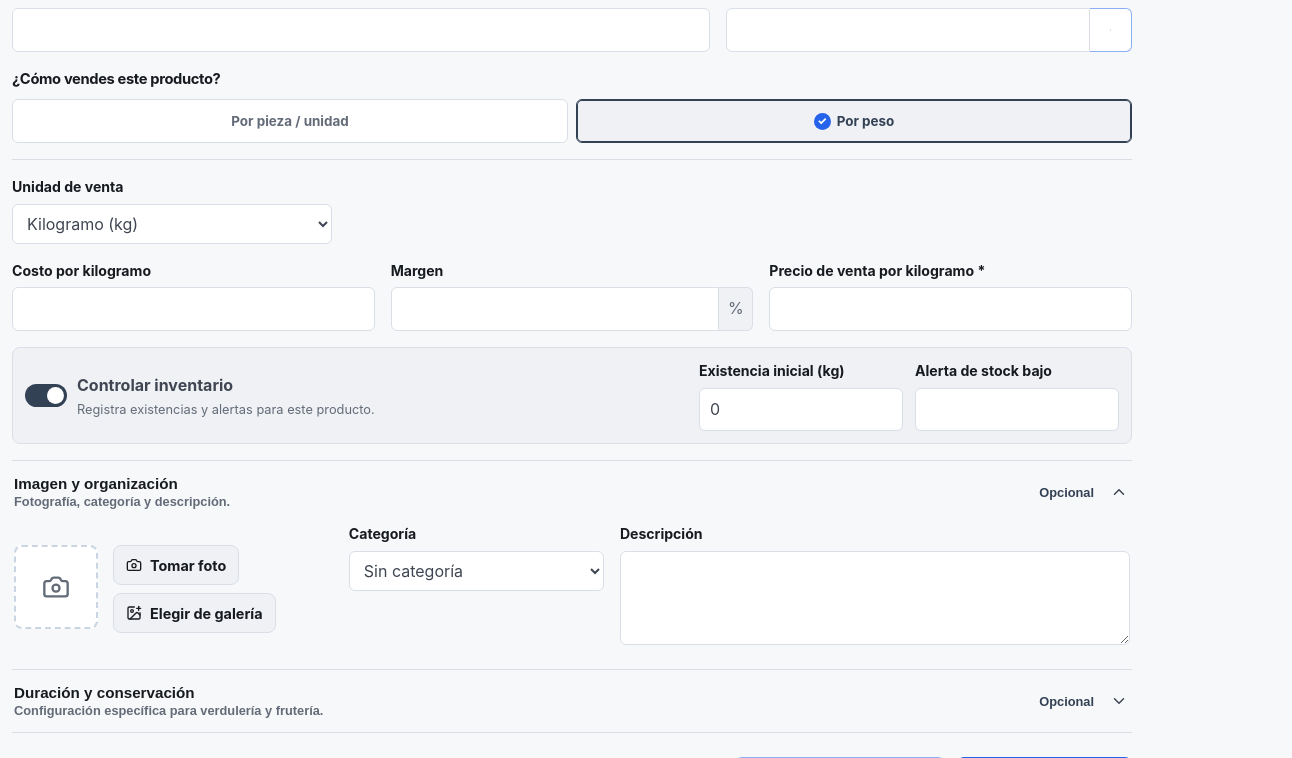
Test: ProductFormV2 › places the produce sale mode before pricing and limits weight units to kg and g
Expected: the dropdown labelled "Unidad de venta" shows "Kilogramo (kg)", [12,204,332,244]
Click the button named "Duraci.n y conservaci.n": (104, 693) [12,670,1132,732]
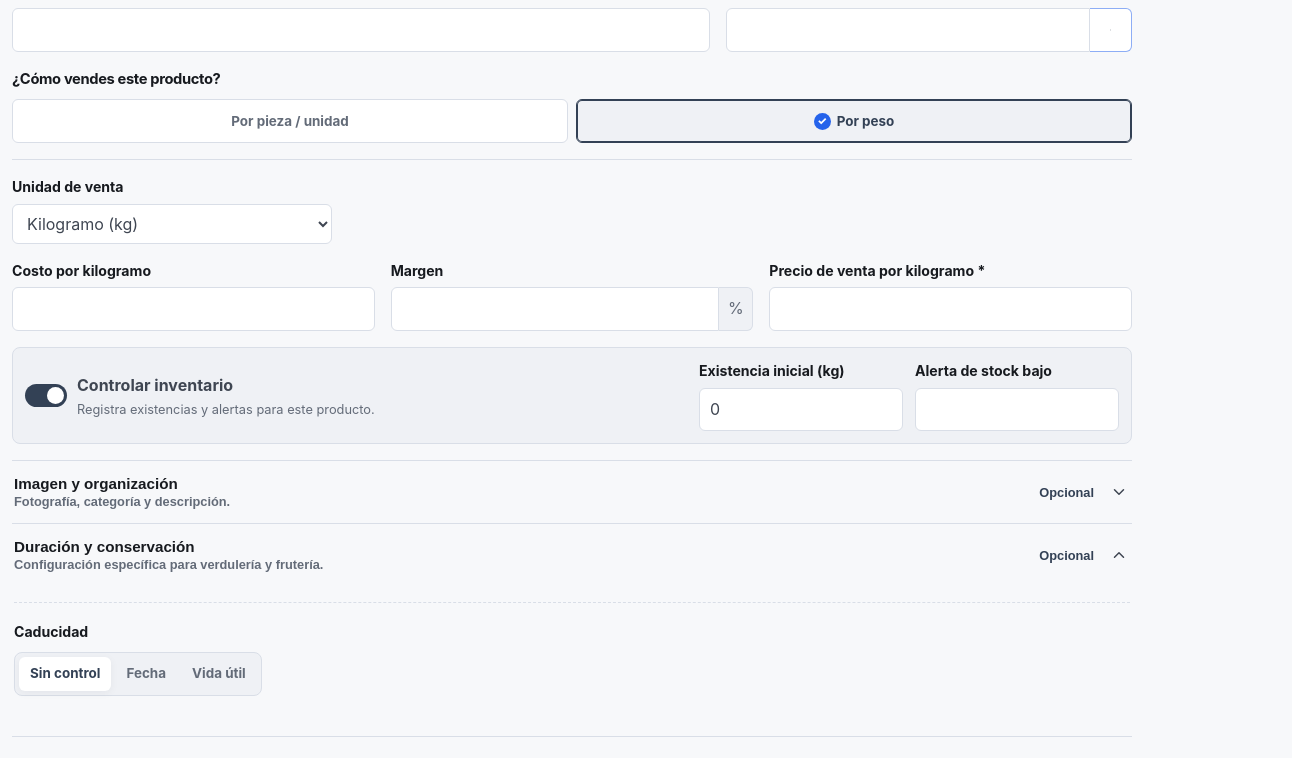
Expected: the number of radio buttons labelled "✓ Por peso" is 1, [576,100,1132,144]
Now the element named "Modo de caducidad" is shown, box [14,652,262,696]
